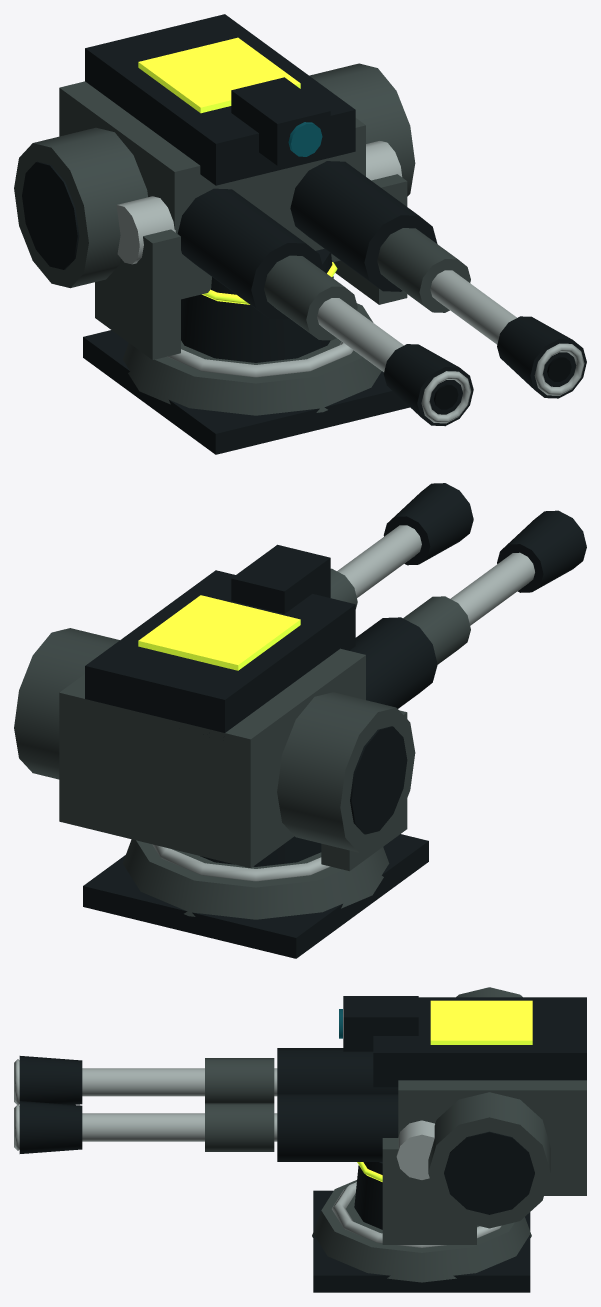
File: twin-repeater-lod2.glb
3 views of the same model, one above another, from view 1: azimuth 30°, elevation 25°; view 2: azimuth 150°, elevation 25°; view 3: azimuth 270°, elevation 25° (orthographic). The views are drawn at different scales.
Parts seen in each view (by area): view 1: receivers__Recessed_carbon_mechanism, receiver__Recessed_carbon_mechanism, ammunition-drums__Cerakote_graphite_armor, receiver__Cerakote_graphite_armor, mount__Cerakote_graphite_armor, cradle__Cerakote_graphite_armor, mount__Recessed_carbon_mechanism, thermal-sleeves__Cerakote_graphite_armor, muzzle-brakes__Recessed_carbon_mechanism, yaw-drive__Recessed_carbon_mechanism, identification__Velocity_chartreuse_identification, twin-barrels__Machined_titanium (+7 smaller); view 2: receiver__Cerakote_graphite_armor, ammunition-drums__Cerakote_graphite_armor, receiver__Recessed_carbon_mechanism, mount__Cerakote_graphite_armor, mount__Recessed_carbon_mechanism, muzzle-brakes__Recessed_carbon_mechanism, identification__Velocity_chartreuse_identification, twin-barrels__Machined_titanium, receivers__Recessed_carbon_mechanism, sensor__Recessed_carbon_mechanism, ammunition-drums__Recessed_carbon_mechanism, thermal-sleeves__Cerakote_graphite_armor (+3 smaller); view 3: receivers__Recessed_carbon_mechanism, receiver__Recessed_carbon_mechanism, receiver__Cerakote_graphite_armor, ammunition-drums__Cerakote_graphite_armor, mount__Cerakote_graphite_armor, twin-barrels__Machined_titanium, thermal-sleeves__Cerakote_graphite_armor, muzzle-brakes__Recessed_carbon_mechanism, mount__Recessed_carbon_mechanism, ammunition-drums__Recessed_carbon_mechanism, cradle__Cerakote_graphite_armor, identification__Velocity_chartreuse_identification (+5 smaller).
Boxes of the visible parts, x1,y1,x2,y2 form: receivers__Recessed_carbon_mechanism: (177, 161, 437, 319); receiver__Recessed_carbon_mechanism: (85, 14, 355, 185); ammunition-drums__Cerakote_graphite_armor: (14, 63, 415, 288); receiver__Cerakote_graphite_armor: (59, 81, 365, 299); mount__Cerakote_graphite_armor: (122, 303, 381, 415); cradle__Cerakote_graphite_armor: (95, 174, 407, 359); mount__Recessed_carbon_mechanism: (83, 330, 409, 454); thermal-sleeves__Cerakote_graphite_armor: (264, 228, 470, 340); muzzle-brakes__Recessed_carbon_mechanism: (383, 316, 586, 426); yaw-drive__Recessed_carbon_mechanism: (181, 249, 333, 362); identification__Velocity_chartreuse_identification: (138, 37, 300, 113); twin-barrels__Machined_titanium: (317, 270, 516, 371); receiver__Cerakote_graphite_armor: (59, 648, 365, 868); ammunition-drums__Cerakote_graphite_armor: (14, 628, 415, 852); receiver__Recessed_carbon_mechanism: (85, 570, 355, 734); mount__Cerakote_graphite_armor: (122, 839, 389, 919); mount__Recessed_carbon_mechanism: (83, 834, 428, 958); muzzle-brakes__Recessed_carbon_mechanism: (383, 483, 586, 592); identification__Velocity_chartreuse_identification: (138, 595, 300, 670); twin-barrels__Machined_titanium: (337, 525, 534, 625); receivers__Recessed_carbon_mechanism: (349, 617, 437, 708); sensor__Recessed_carbon_mechanism: (231, 544, 330, 613); ammunition-drums__Recessed_carbon_mechanism: (350, 726, 407, 834); thermal-sleeves__Cerakote_graphite_armor: (330, 568, 470, 664); receivers__Recessed_carbon_mechanism: (277, 1048, 398, 1161); receiver__Recessed_carbon_mechanism: (373, 997, 586, 1087); receiver__Cerakote_graphite_armor: (398, 1080, 586, 1195); ammunition-drums__Cerakote_graphite_armor: (428, 987, 550, 1228); mount__Cerakote_graphite_armor: (312, 1180, 531, 1282); twin-barrels__Machined_titanium: (82, 1068, 277, 1141); thermal-sleeves__Cerakote_graphite_armor: (205, 1058, 274, 1151); muzzle-brakes__Recessed_carbon_mechanism: (19, 1056, 82, 1153); mount__Recessed_carbon_mechanism: (313, 1190, 530, 1292); ammunition-drums__Recessed_carbon_mechanism: (444, 1131, 534, 1214); cradle__Cerakote_graphite_armor: (382, 1138, 476, 1244); identification__Velocity_chartreuse_identification: (430, 1000, 532, 1044).
Size of the model in its own units: 1.98 by 1.71 by 3.65.
